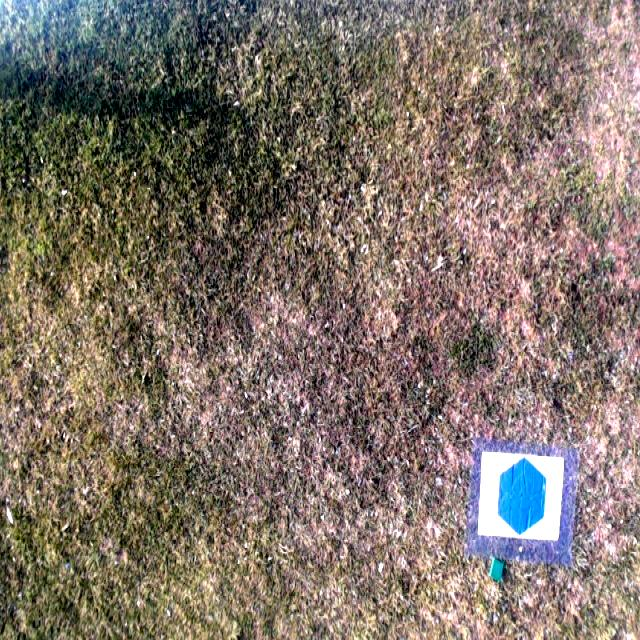blue_hexagon: (498, 458, 547, 533)
